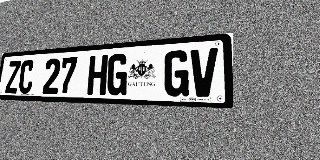2: (42, 58, 61, 94)
7: (58, 57, 78, 94)
C: (18, 60, 35, 94)
G: (163, 50, 190, 97), (106, 53, 129, 95)
H: (87, 55, 108, 95)
V: (189, 48, 218, 97)
Z: (5, 60, 21, 93)
